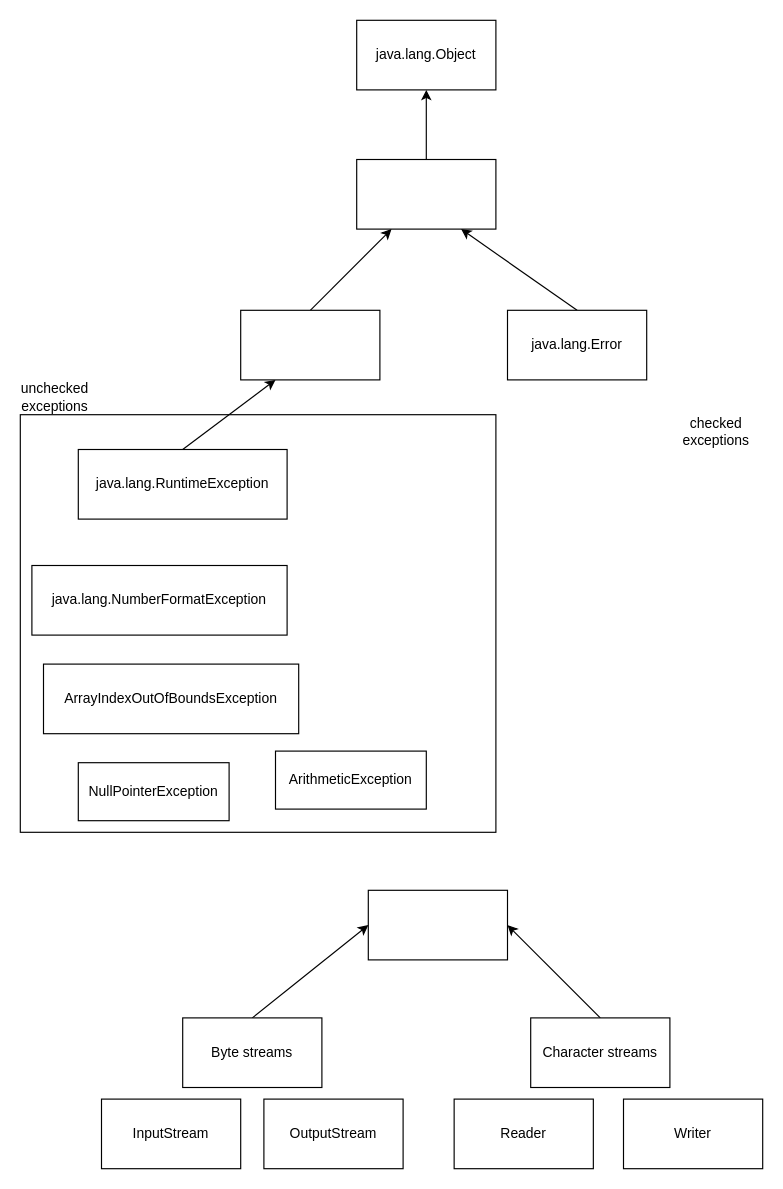
The diagram is 783 pixels wide and 1189 high, and some of its shapes have lost their labels. Here are the shapes that lost their labels. From the top down, the centre of each, then its label:
point 426,193: java.lang.Throwable
point 310,344: java.lang.Exception
point 437,924: IO Streams
